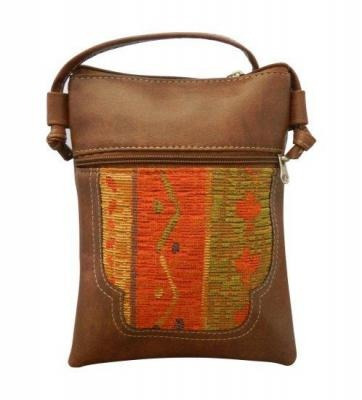cartera: (44, 32, 313, 370)
